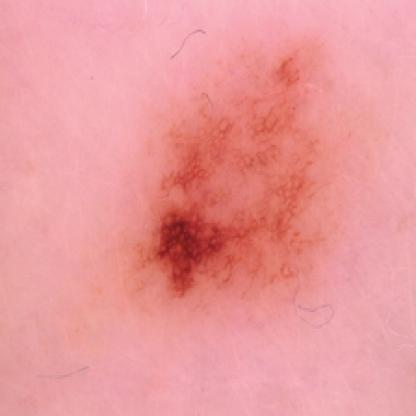benign: (126, 76, 338, 295)
